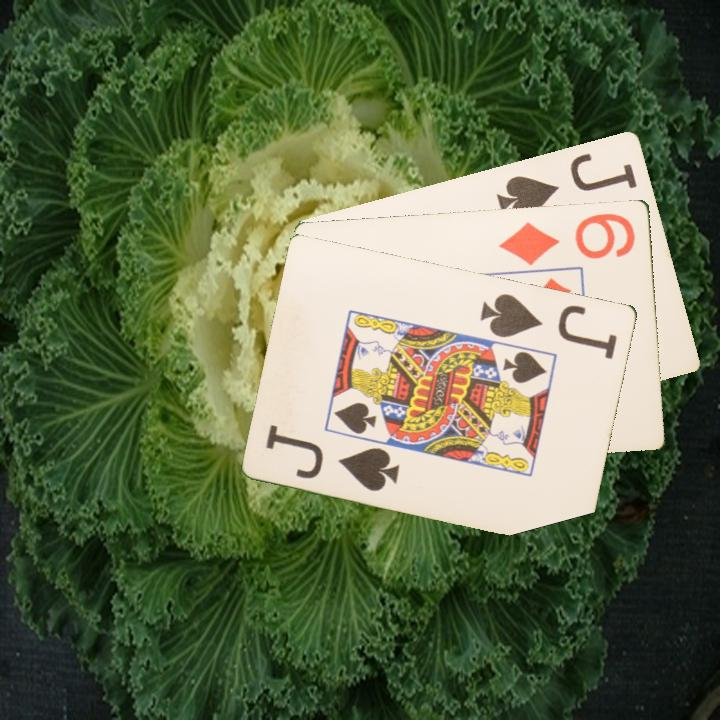6d: (495, 209, 638, 268)
Js: (493, 148, 640, 222), (477, 289, 620, 362), (262, 421, 404, 494)
